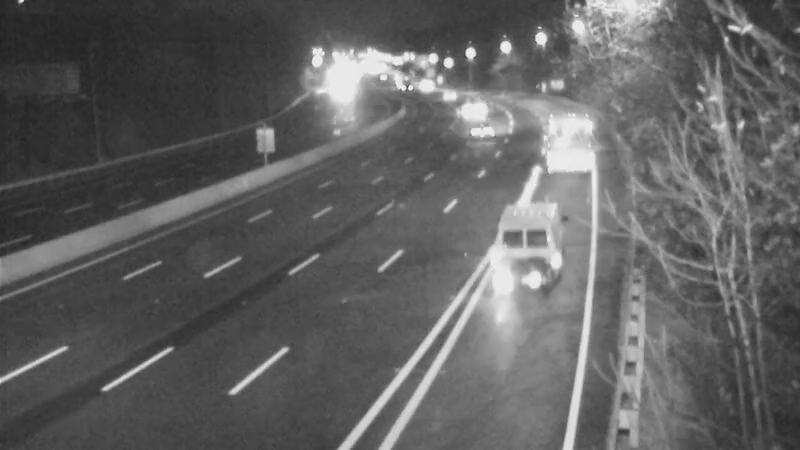vehicle: (493, 221, 573, 301), (428, 74, 478, 124), (448, 83, 498, 133), (456, 105, 506, 155), (540, 117, 590, 167)
